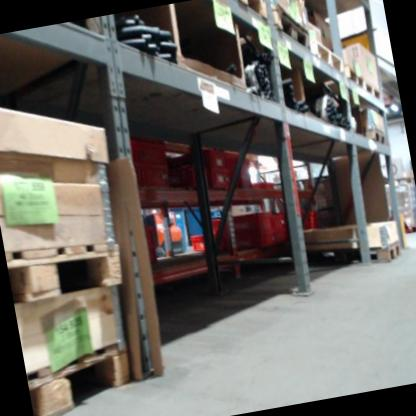pallet: (5, 231, 128, 304), (24, 342, 139, 416), (324, 240, 405, 273), (269, 0, 312, 55), (308, 34, 346, 81), (224, 0, 268, 26), (344, 60, 367, 96), (362, 79, 384, 106)
small_load_carrier: (168, 142, 227, 176), (226, 206, 273, 237), (186, 166, 231, 197), (187, 227, 226, 257), (138, 161, 173, 192), (137, 140, 170, 169), (299, 209, 322, 231), (251, 179, 276, 195), (144, 225, 159, 248), (148, 246, 160, 272)
